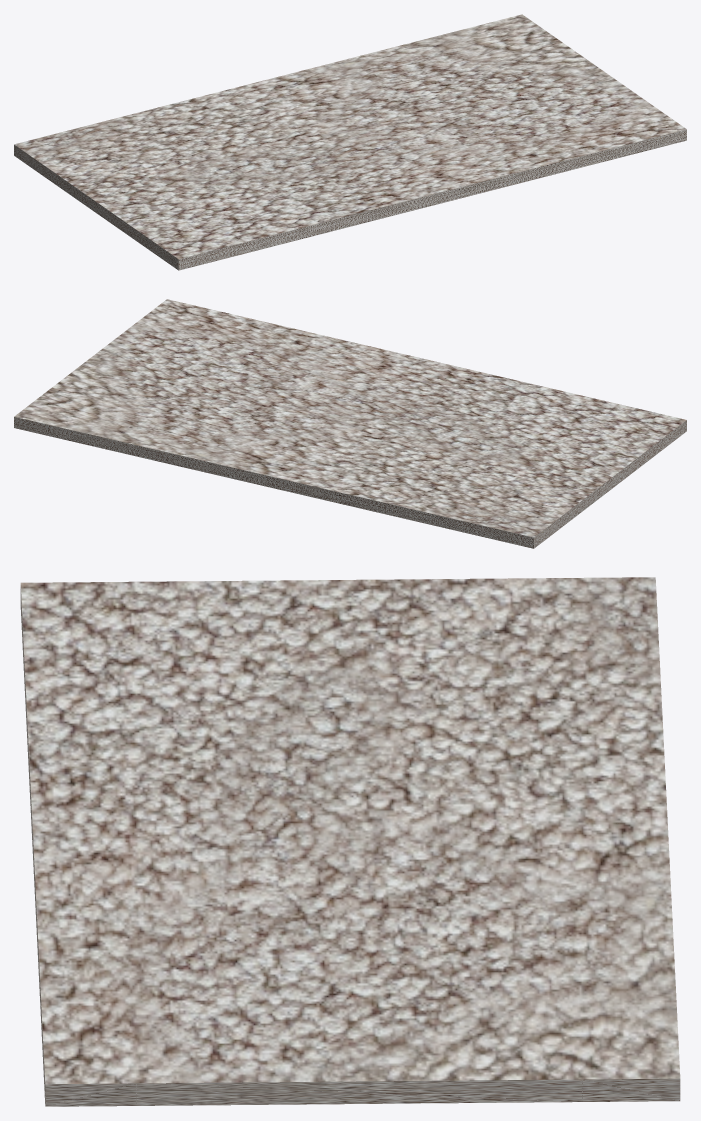
The model's file is tapete.fbx.
3 renders of one model, top to bottom at view 1: azimuth 30°, elevation 25°; view 2: azimuth 150°, elevation 25°; view 3: azimuth 270°, elevation 25°, orthographic. The views are drawn at different scales.
Parts seen in each view (by area): view 1: tapete_box; view 2: tapete_box; view 3: tapete_box.
Boxes of the visible parts, left/top/right/bottom form: tapete_box: left=14, top=14, right=686, bottom=270; tapete_box: left=14, top=299, right=686, bottom=548; tapete_box: left=20, top=577, right=680, bottom=1106.
Bounding box in the file's own units: 0.9414 × 0.0195 × 0.5177.
1 material, 1 textured.
